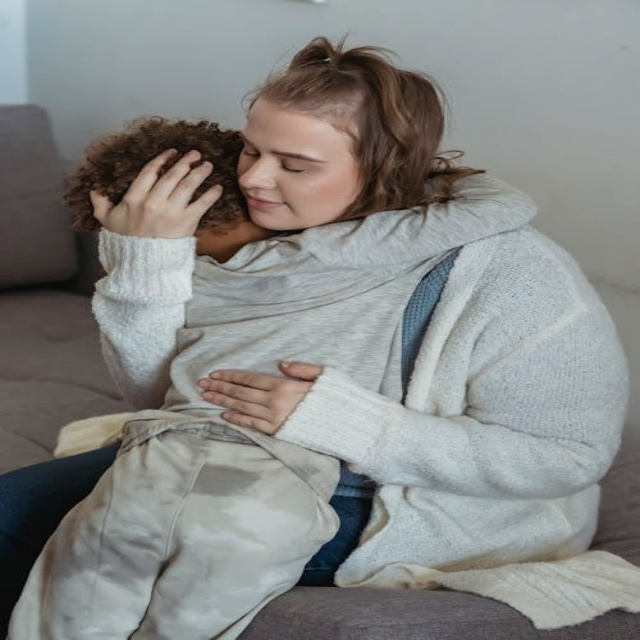Sin_gafas: (237, 127, 340, 182)
Sin_guantes: (91, 148, 223, 241), (198, 361, 323, 436)
Sin_mascara: (243, 187, 306, 228)
